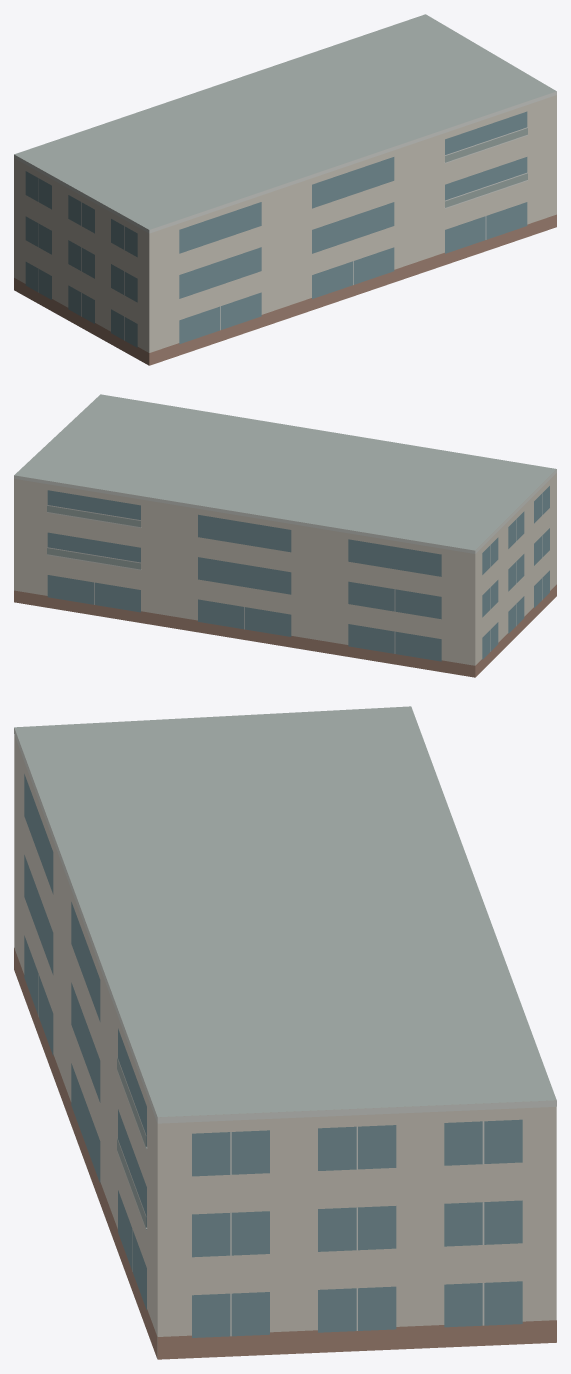
File: survey-upis-32472810.glb
The picture shows the model from 3 angles, top to bottom: view 1: azimuth 30°, elevation 25°; view 2: azimuth 150°, elevation 25°; view 3: azimuth 270°, elevation 25°; orthographic projection. The views are drawn at different scales.
Parts seen in each view (by area): view 1: survey-upis-32472810.tmp; view 2: survey-upis-32472810.tmp; view 3: survey-upis-32472810.tmp.
Part boxes in pixels (left/top/right/bottom): survey-upis-32472810.tmp: left=14, top=14, right=556, bottom=365; survey-upis-32472810.tmp: left=14, top=394, right=556, bottom=677; survey-upis-32472810.tmp: left=14, top=706, right=556, bottom=1359.
Bounding box in the file's own units: 33.28 × 9.15 × 18.58.
